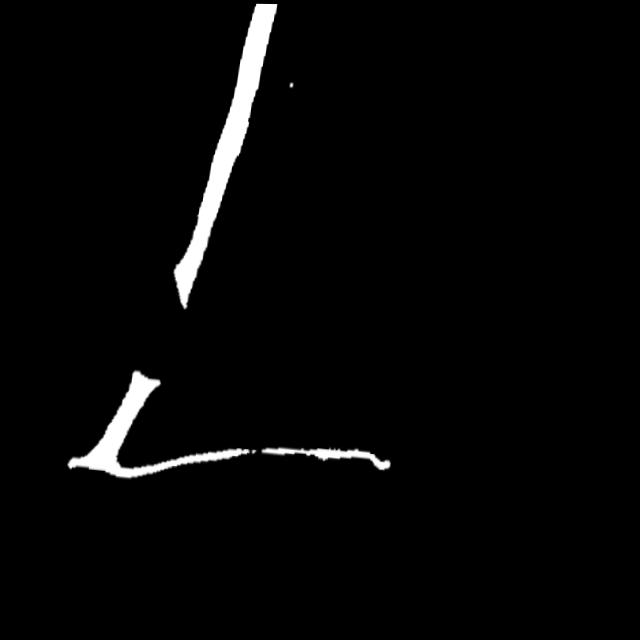inf: (243, 437, 280, 466)
